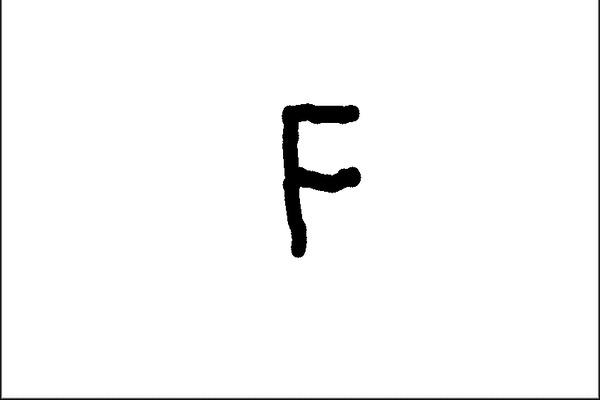F: (277, 99, 366, 259)
